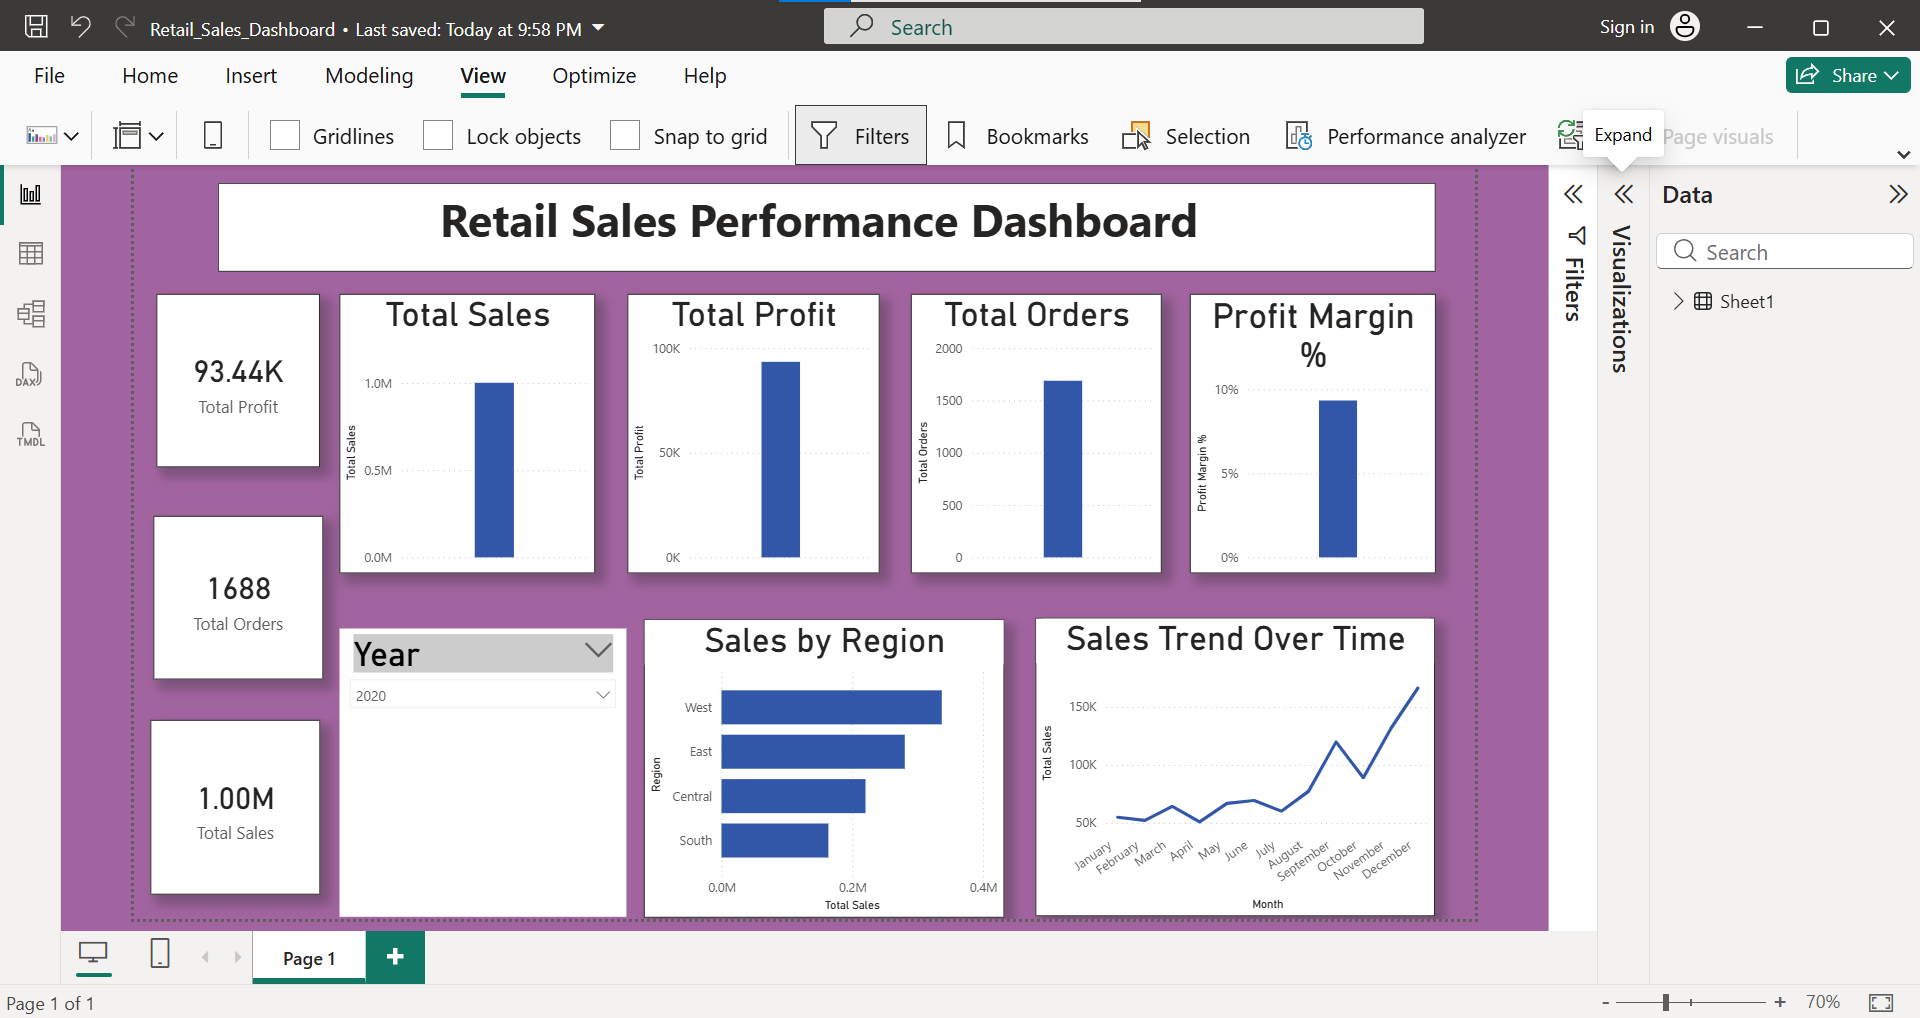

The page's visual inventory and layout, read from the dashboard file:
{"tool":"powerbi","page":{"name":"Page 1","canvas":[1280,720],"ordinal":0},"visuals":[{"type":"clusteredColumnChart","fields":{"Y":["Sheet1.Total Sales"]},"box":[196.8,122.7,243.8,266.5],"z":0},{"type":"clusteredColumnChart","fields":{"Y":["Sheet1.Total Profit"]},"box":[470.9,122.7,240.8,266.5],"z":1000},{"type":"clusteredColumnChart","fields":{"Y":["Sheet1.Total Orders"]},"box":[742,122.7,239.2,266.5],"z":2000},{"type":"clusteredColumnChart","fields":{"Y":["Sheet1.Profit Margin %"]},"box":[1008.5,122.7,234.7,266.5],"z":3000},{"type":"clusteredBarChart","title":"Sales by Region","fields":{"Category":["Sheet1.Region"],"Y":["Sheet1.Total Sales"]},"box":[487.6,434.6,343.7,284.7],"z":4000},{"type":"lineChart","title":"Sales Trend Over Time","fields":{"Category":["Sheet1.Order Date.Variation.Date Hierarchy.Month"],"Y":["Sheet1.Total Sales"]},"box":[861.6,433.1,381.6,284.7],"z":5000},{"type":"slicer","fields":{"Values":["Sheet1.Year"]},"box":[196.8,442.1,274.1,275.6],"z":6000},{"type":"textbox","box":[80.3,16.7,1162.9,84.8],"z":7000},{"type":"card","fields":{"Values":["Sheet1.Total Orders"]},"box":[18.2,334.6,162,156],"z":8000},{"type":"card","fields":{"Values":["Sheet1.Total Profit"]},"box":[21.2,122.7,156,165],"z":9000},{"type":"card","fields":{"Values":["Sheet1.Total Sales"]},"box":[15.1,530,162,166.6],"z":10000}]}

Visuals, with their boxes on the page's 1280x720 design canvas (x1, y1, x2, y2). These are canvas units, not pixel positions in the 1920x1018 screenshot, which may show the page scaled, cropped or inside an application window:
clusteredColumnChart - Sheet1.Total Sales: (197,123,441,389)
clusteredColumnChart - Sheet1.Total Profit: (471,123,712,389)
clusteredColumnChart - Sheet1.Total Orders: (742,123,981,389)
clusteredColumnChart - Sheet1.Profit Margin %: (1008,123,1243,389)
"Sales by Region" clusteredBarChart: (488,435,831,719)
"Sales Trend Over Time" lineChart: (862,433,1243,718)
slicer - Sheet1.Year: (197,442,471,718)
textbox: (80,17,1243,102)
card - Sheet1.Total Orders: (18,335,180,491)
card - Sheet1.Total Profit: (21,123,177,288)
card - Sheet1.Total Sales: (15,530,177,697)
